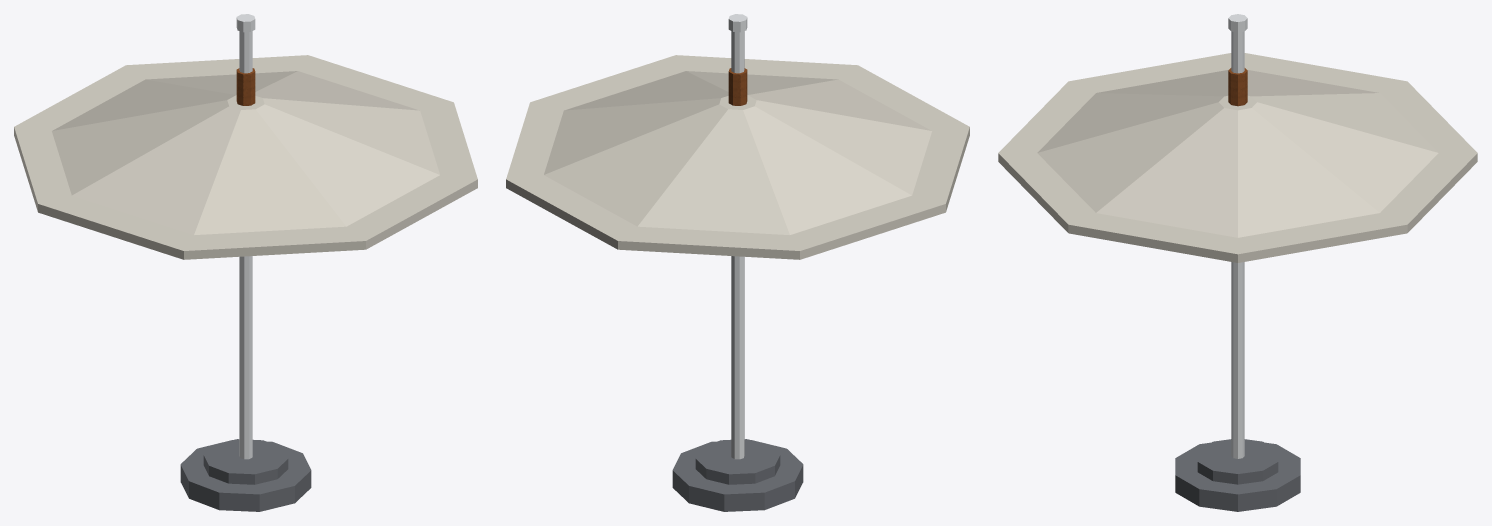
The model's file is cruise-ship-deck-and-lounge-cruise-ship-deck-and-loung-15903db8__38437.glb.
The picture shows the model from 3 angles, left to right: view 1: azimuth 30°, elevation 25°; view 2: azimuth 150°, elevation 25°; view 3: azimuth 270°, elevation 25°; orthographic projection.
Visible parts, largest first — view 1: parasol-canopy/canvas (×2), cruise-ship-deck-and-lounge-deck-parasol, parasol-canopy/teak; view 2: parasol-canopy/canvas (×2), cruise-ship-deck-and-lounge-deck-parasol, parasol-canopy/teak; view 3: parasol-canopy/canvas (×2), cruise-ship-deck-and-lounge-deck-parasol, parasol-canopy/teak.
Boxes of the visible parts, bbox=[...] form: parasol-canopy/canvas (×2): bbox=[14, 55, 477, 259]; cruise-ship-deck-and-lounge-deck-parasol: bbox=[180, 14, 311, 511]; parasol-canopy/teak: bbox=[236, 68, 255, 105]; parasol-canopy/canvas (×2): bbox=[506, 55, 969, 259]; cruise-ship-deck-and-lounge-deck-parasol: bbox=[672, 14, 803, 511]; parasol-canopy/teak: bbox=[728, 68, 747, 105]; parasol-canopy/canvas (×2): bbox=[998, 53, 1477, 262]; cruise-ship-deck-and-lounge-deck-parasol: bbox=[1175, 14, 1300, 511]; parasol-canopy/teak: bbox=[1228, 68, 1247, 106].
Size of the model in its own units: 2.48 by 2.66 by 2.48.
Materials: 4 (1 with a texture image).
